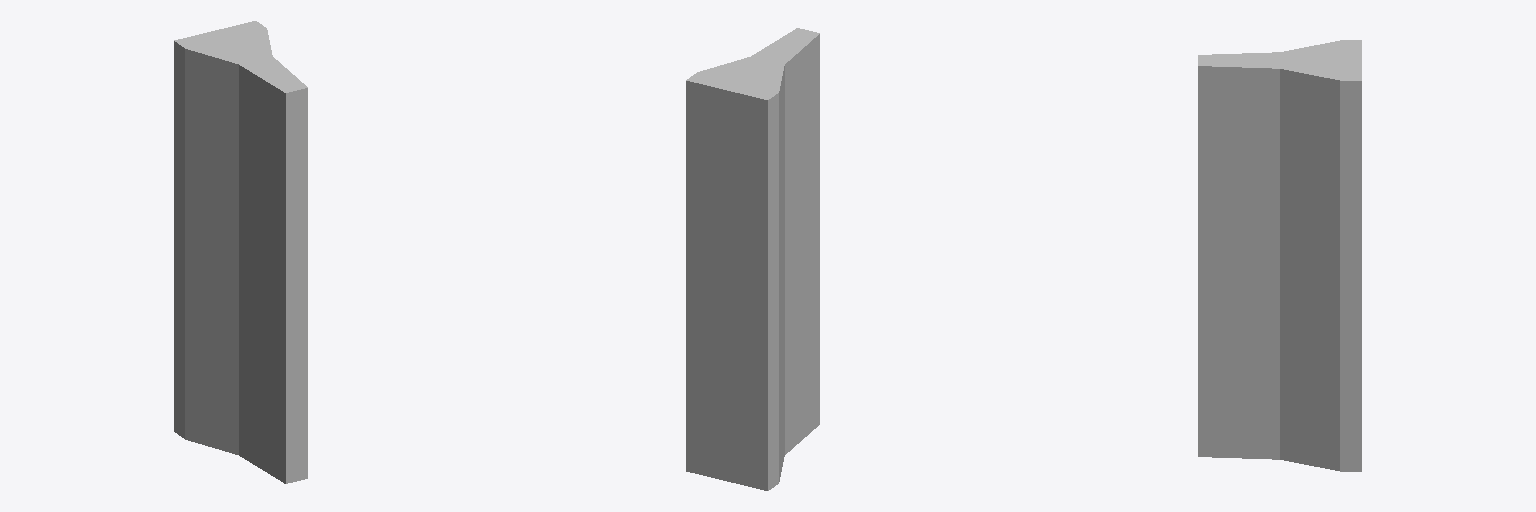
Rendered from barrier.obj.
3 views of the same model, side by side, from view 1: azimuth 30°, elevation 25°; view 2: azimuth 150°, elevation 25°; view 3: azimuth 270°, elevation 25° (orthographic).
Parts seen in each view (by area): view 1: Cube.001; view 2: Cube.001; view 3: Cube.001.
Boxes of the visible parts, x1,y1,x2,y2 form: Cube.001: [174, 21, 307, 483]; Cube.001: [686, 28, 819, 490]; Cube.001: [1198, 40, 1361, 471].
Bounding box in the file's own units: 2.39 × 10.88 × 4.13.